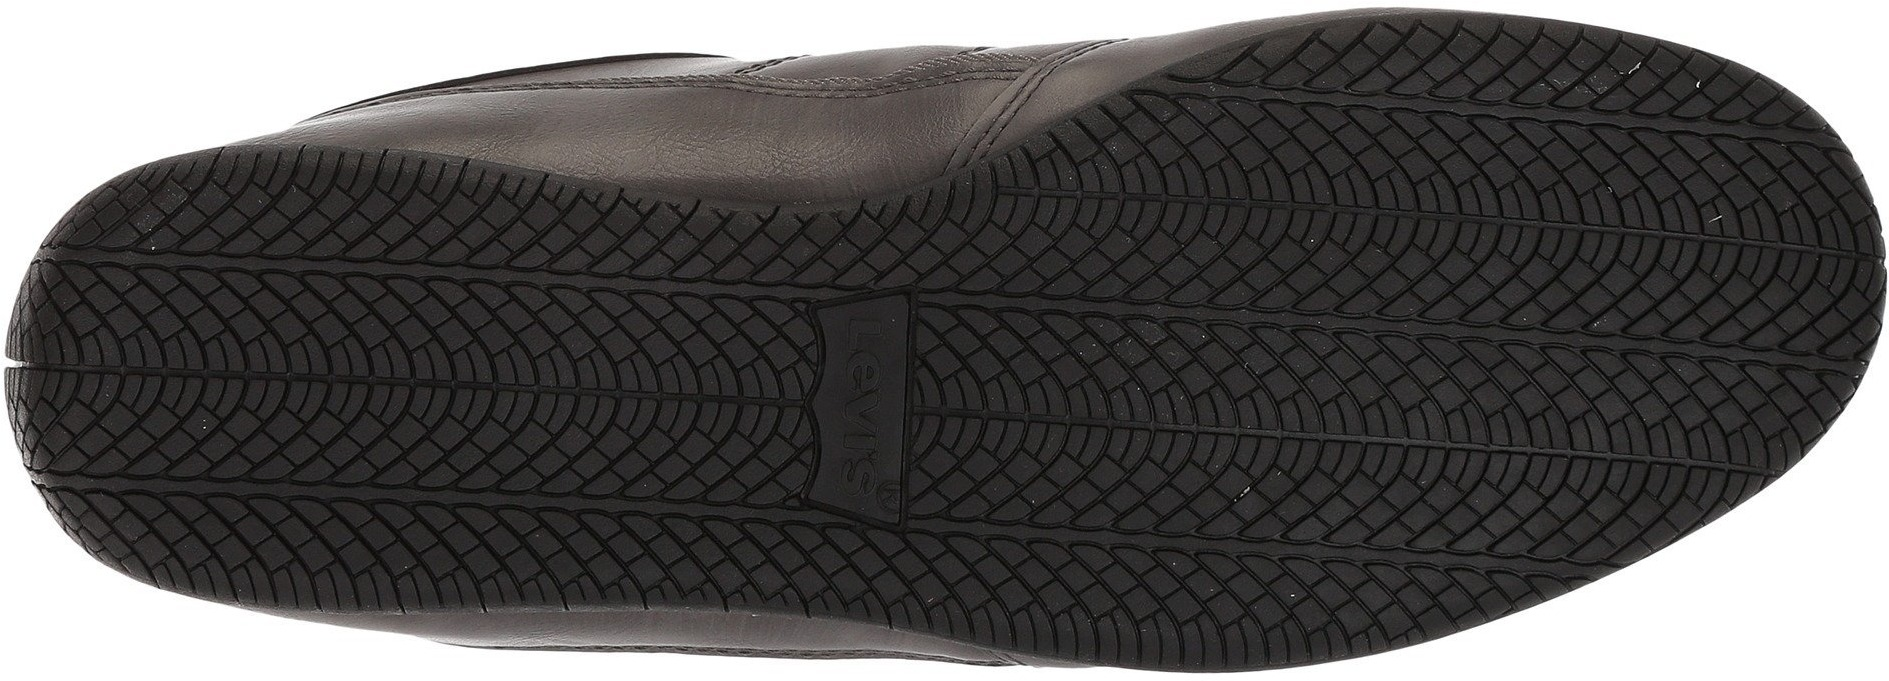exclude: (226, 606, 1125, 675)
quad: (1352, 40, 1585, 263), (1159, 312, 1391, 524), (946, 309, 1157, 519), (1130, 87, 1349, 286), (1601, 125, 1808, 331), (70, 265, 273, 462), (276, 275, 479, 471), (1403, 322, 1582, 516), (484, 297, 661, 477), (1596, 358, 1737, 497), (1163, 533, 1306, 664), (249, 154, 382, 277), (357, 483, 486, 607), (667, 303, 770, 397)
text: (829, 315, 907, 391), (826, 384, 902, 462)
